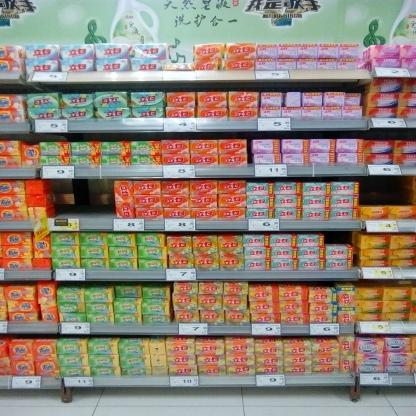Void: (51, 180, 116, 218), (360, 179, 407, 202), (172, 42, 194, 60), (331, 233, 353, 244)
